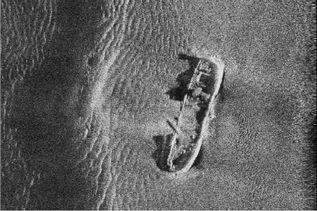ship: (165, 55, 225, 175)
